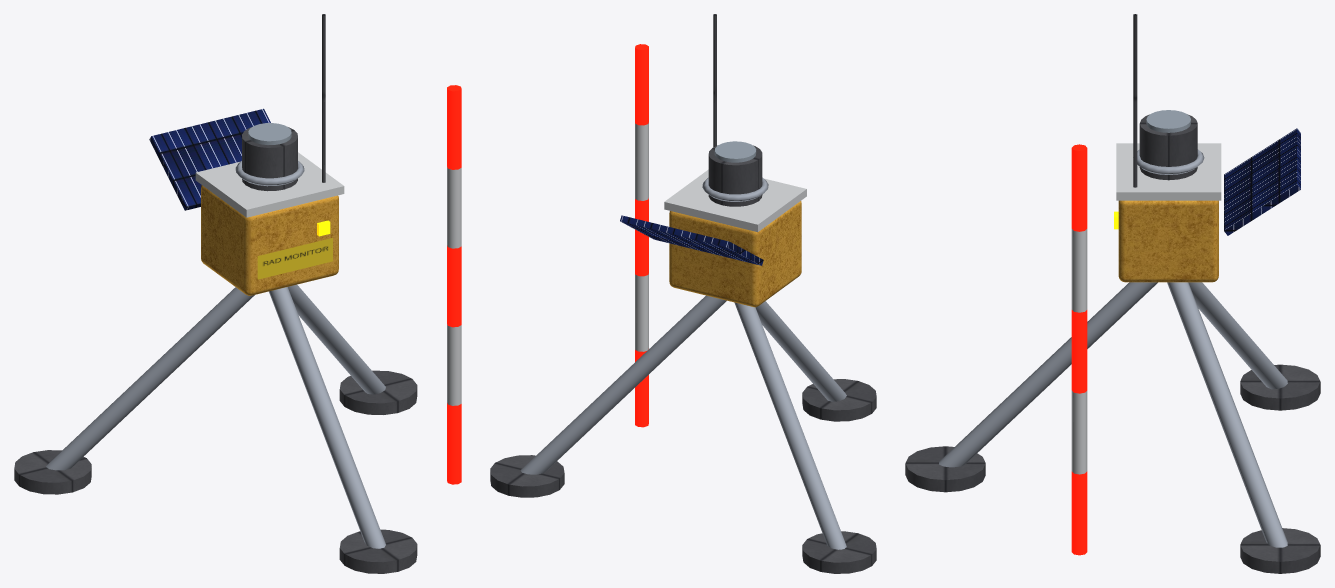
The model's file is RadiationStation.glb.
3 views of the same model, side by side, from view 1: azimuth 30°, elevation 25°; view 2: azimuth 150°, elevation 25°; view 3: azimuth 270°, elevation 25° (orthographic). The views are drawn at different scales.
Visible parts, largest first — view 1: RadiationStation_Mesh; view 2: RadiationStation_Mesh; view 3: RadiationStation_Mesh.
Part boxes in pixels (x1,y1,x2,y2): RadiationStation_Mesh: (14, 14, 461, 573); RadiationStation_Mesh: (490, 14, 876, 573); RadiationStation_Mesh: (905, 14, 1320, 573).
Bounding box in the file's own units: 2.09 × 2.4 × 1.86.
9 materials, 4 textured.
